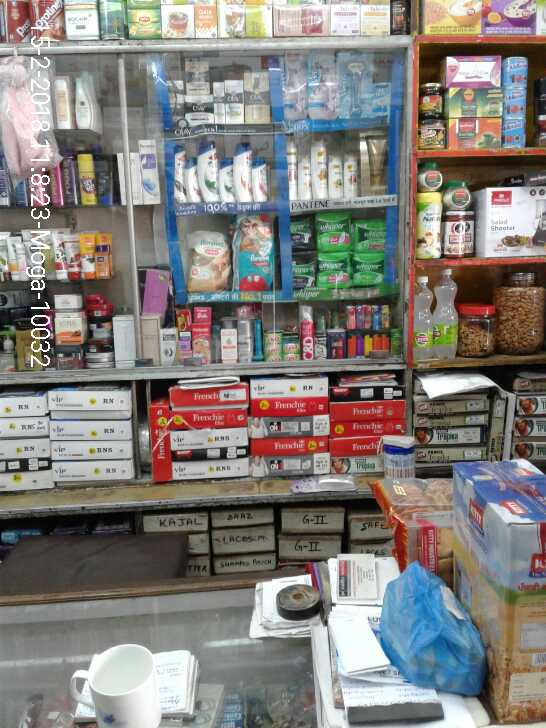venus: (337, 56, 368, 117), (308, 56, 337, 117), (285, 55, 308, 117), (368, 83, 389, 117)
